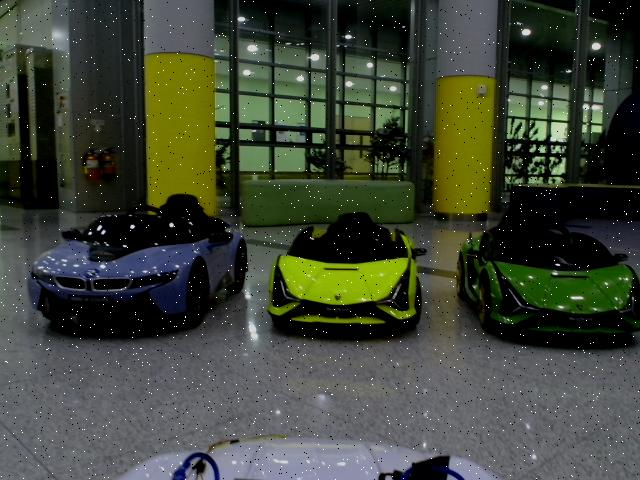car: (28, 193, 248, 326), (455, 211, 640, 334), (267, 212, 428, 331)
